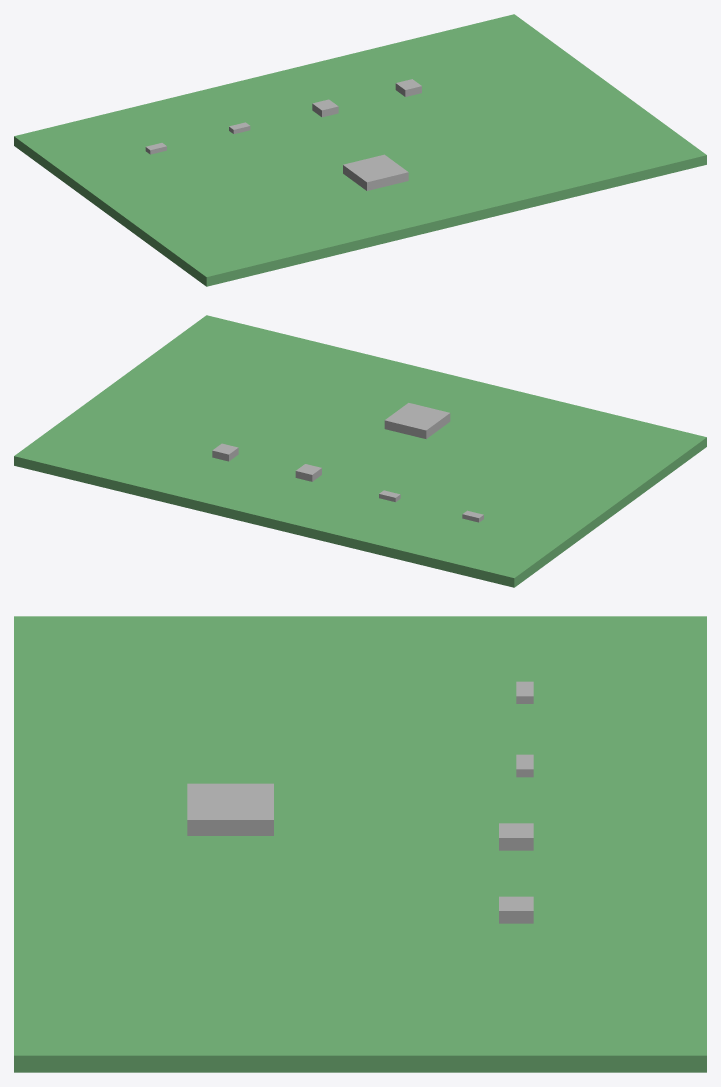
File: board.glb
3 views of the same model, one above another, from view 1: azimuth 30°, elevation 25°; view 2: azimuth 150°, elevation 25°; view 3: azimuth 270°, elevation 25° (orthographic). The views are drawn at different scales.
Visible parts, largest first — view 1: Substrate_Layer_0, U1; view 2: Substrate_Layer_0, U1; view 3: Substrate_Layer_0, U1, C1, C2.
Part boxes in pixels (x1,y1,x2,y2): Substrate_Layer_0: [14, 14, 706, 286]; U1: [343, 154, 408, 190]; Substrate_Layer_0: [14, 315, 706, 587]; U1: [384, 403, 450, 438]; Substrate_Layer_0: [14, 616, 706, 1072]; U1: [187, 783, 273, 835]; C1: [499, 823, 533, 850]; C2: [499, 896, 533, 923].
Size of the model in its own units: 0.06 by 0.0021 by 0.04.
